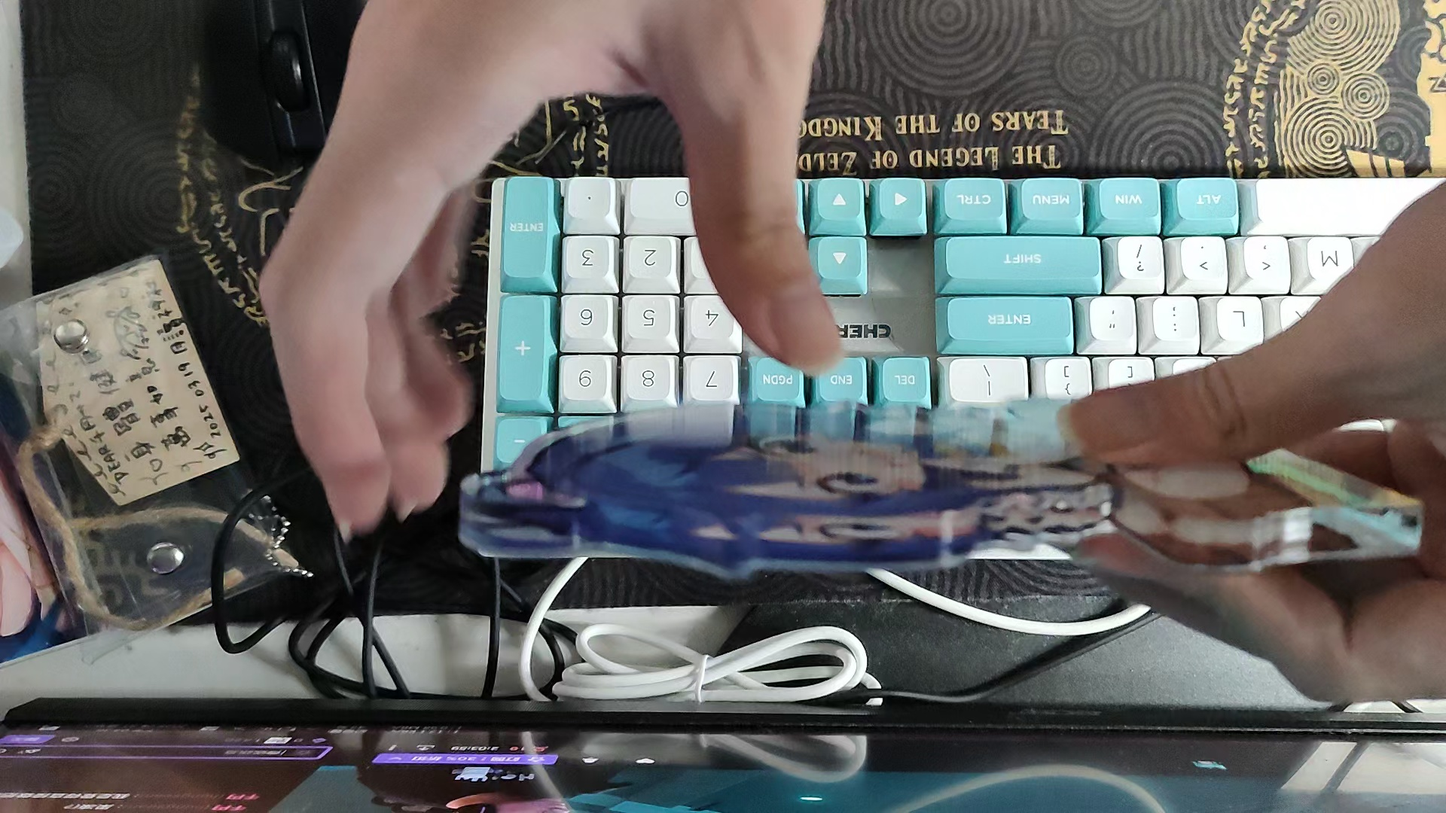Yanami-anna: (462, 394, 1429, 577)
